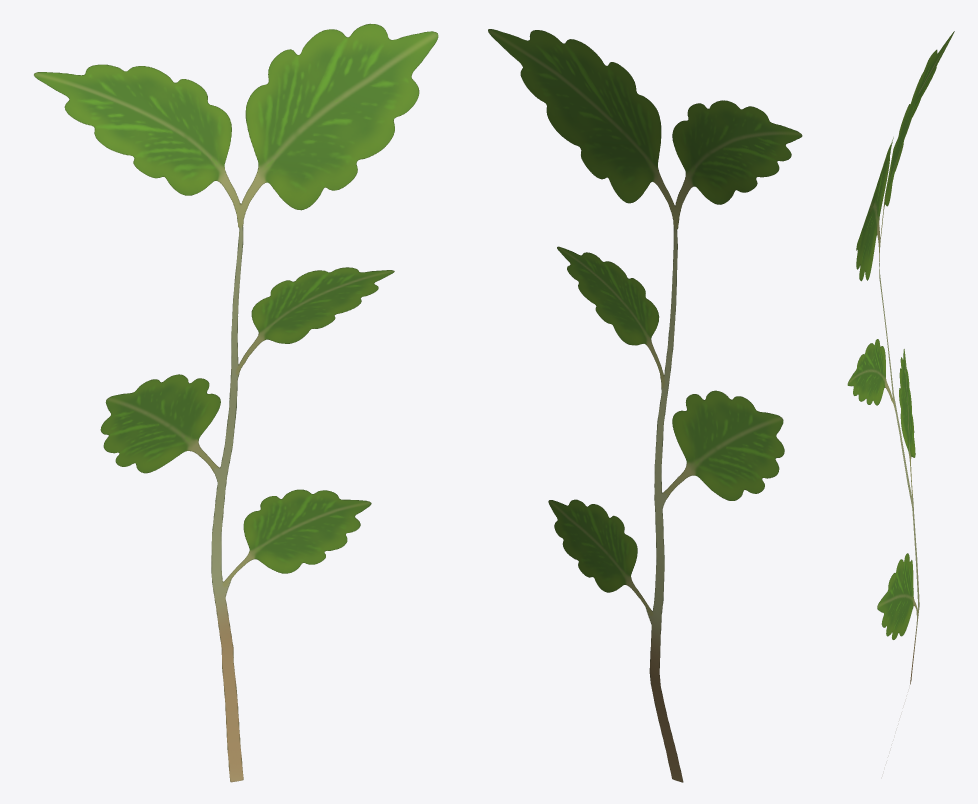
The model's file is SM_Sprout_Four_LODS.fbx.
The picture shows the model from 3 angles, left to right: view 1: azimuth 30°, elevation 25°; view 2: azimuth 150°, elevation 25°; view 3: azimuth 270°, elevation 25°; orthographic projection. The views are drawn at different scales.
Visible parts, largest first — view 1: polySurface9_LOD0; view 2: polySurface9_LOD0; view 3: polySurface9_LOD0.
Part boxes in pixels (x1,y1,x2,y2): polySurface9_LOD0: [34, 23, 438, 782]; polySurface9_LOD0: [488, 29, 802, 782]; polySurface9_LOD0: [847, 31, 954, 684].
Size of what is drawn, in the model's own units: 36.6 by 67.64 by 10.56.
